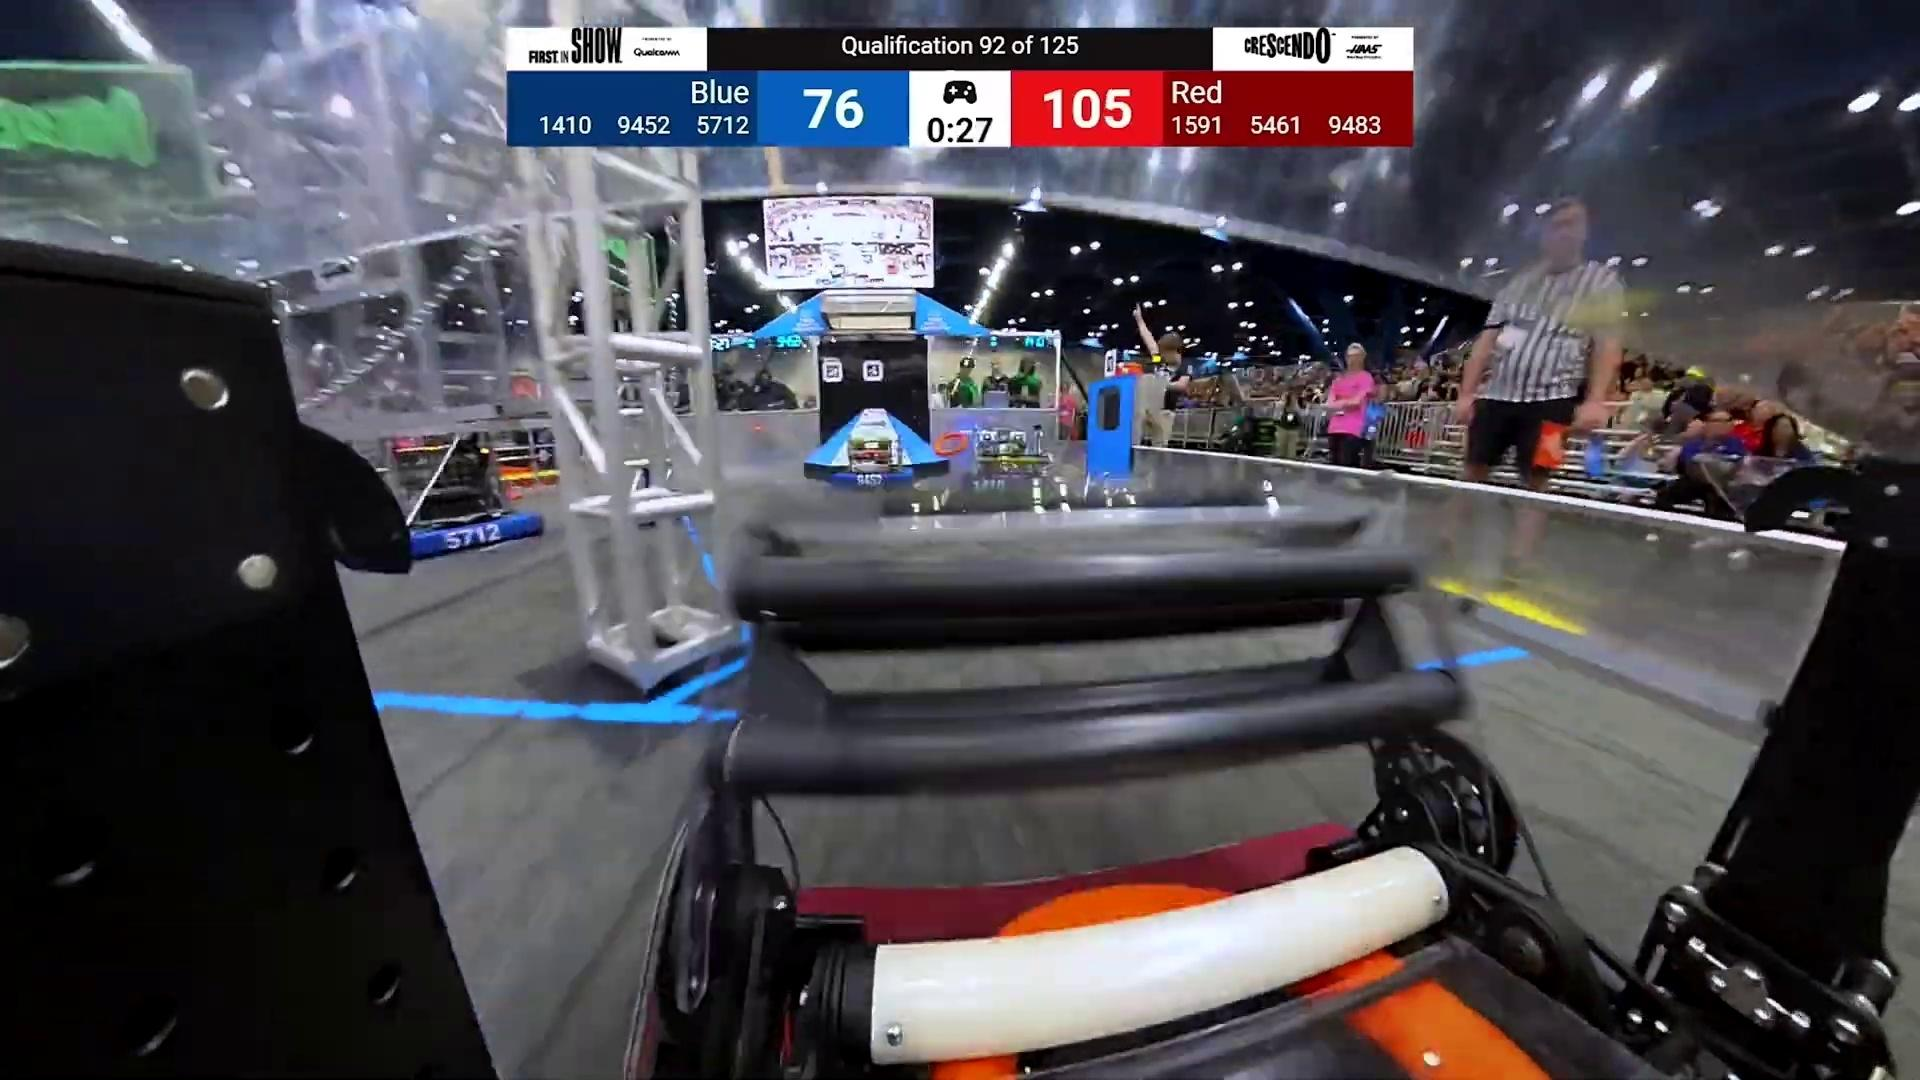robot: (398, 434, 542, 555), (957, 427, 1055, 489), (833, 434, 915, 491)
